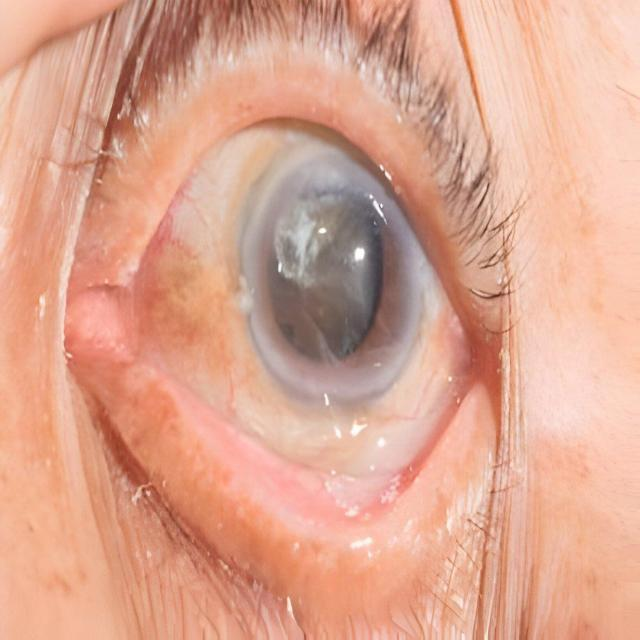Cataract: (230, 146, 430, 405)
